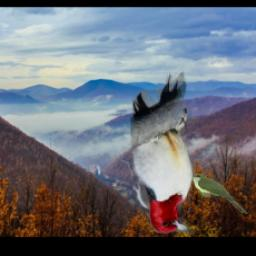Cuckoo: (188, 174, 248, 215)
Woodpecker: (130, 70, 197, 234)
